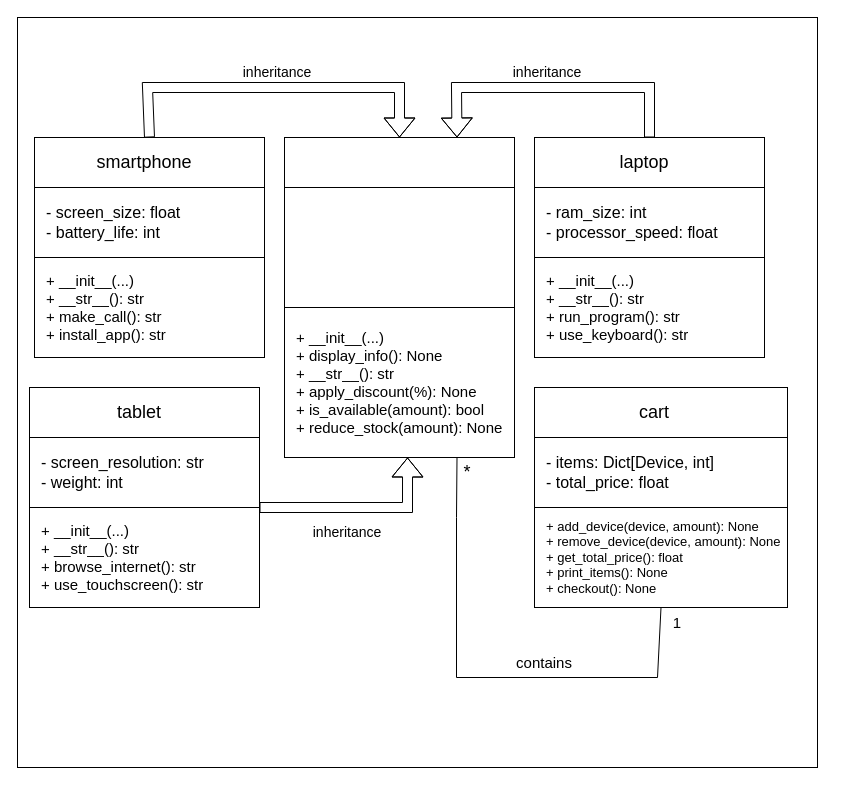
This 862x785 diagram has some shape labels left out. Here are the shapes that lost their labels. From the top down, the box of each, then its label:
(284, 136, 514, 188): Device
(284, 186, 514, 308): - name: str - price: float - stock: int - warranty_period: int
